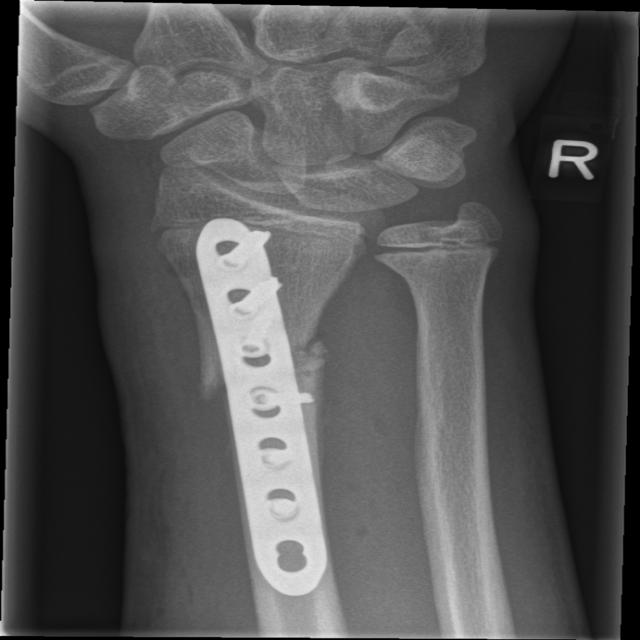radius fracture: (143, 212, 359, 602)
